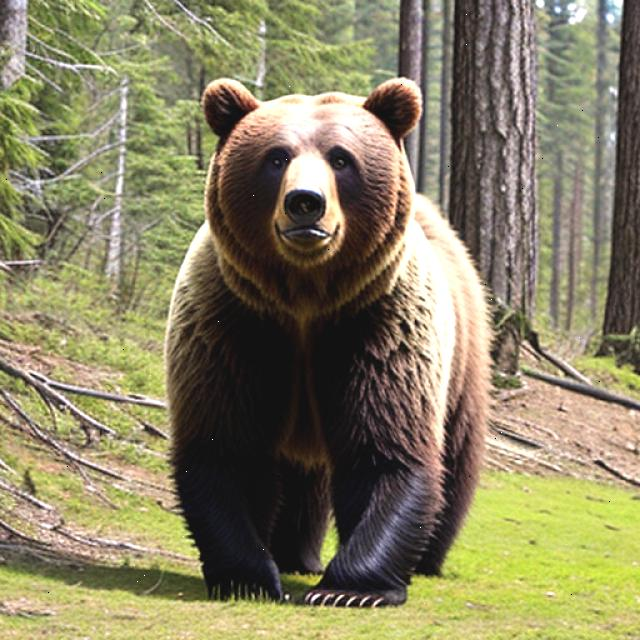bear: (166, 65, 450, 309)
